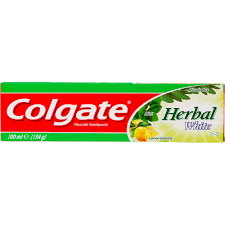colgate-small: (1, 81, 224, 145)
